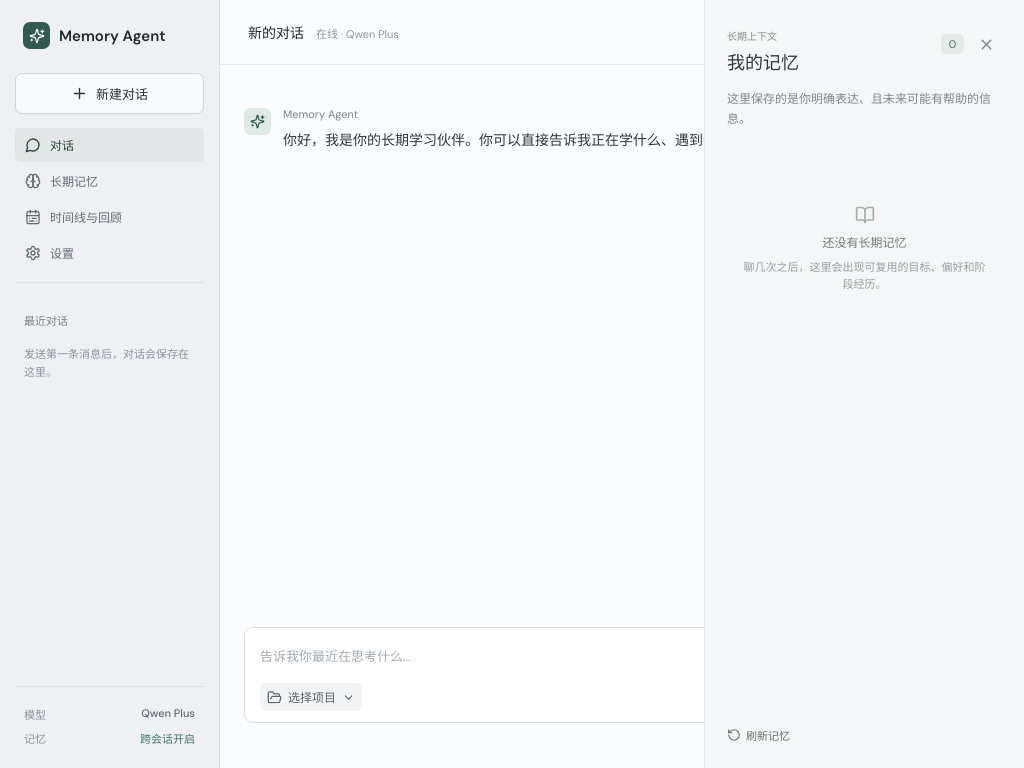
discards an old timeline response after leaving a scope and returning to it
Click the button "时间线与回顾" at (110, 217), box left=15, top=200, right=204, bottom=234
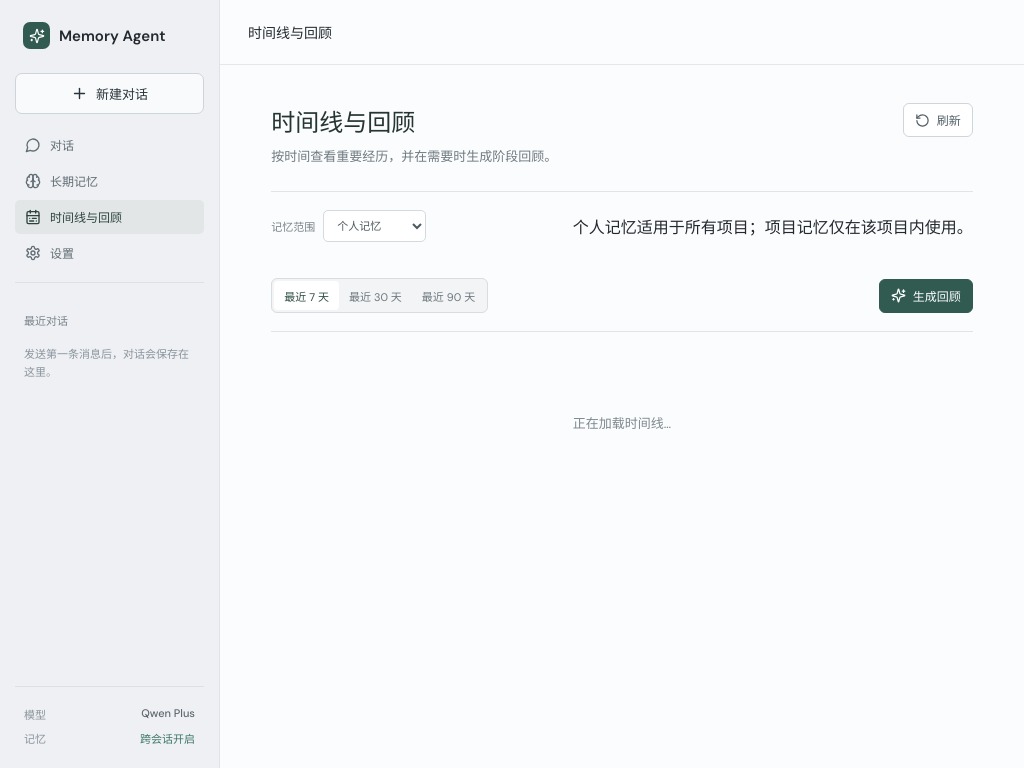
Select "demo" in the dropdown labelled "记忆范围" at (375, 226), box left=323, top=210, right=426, bottom=242
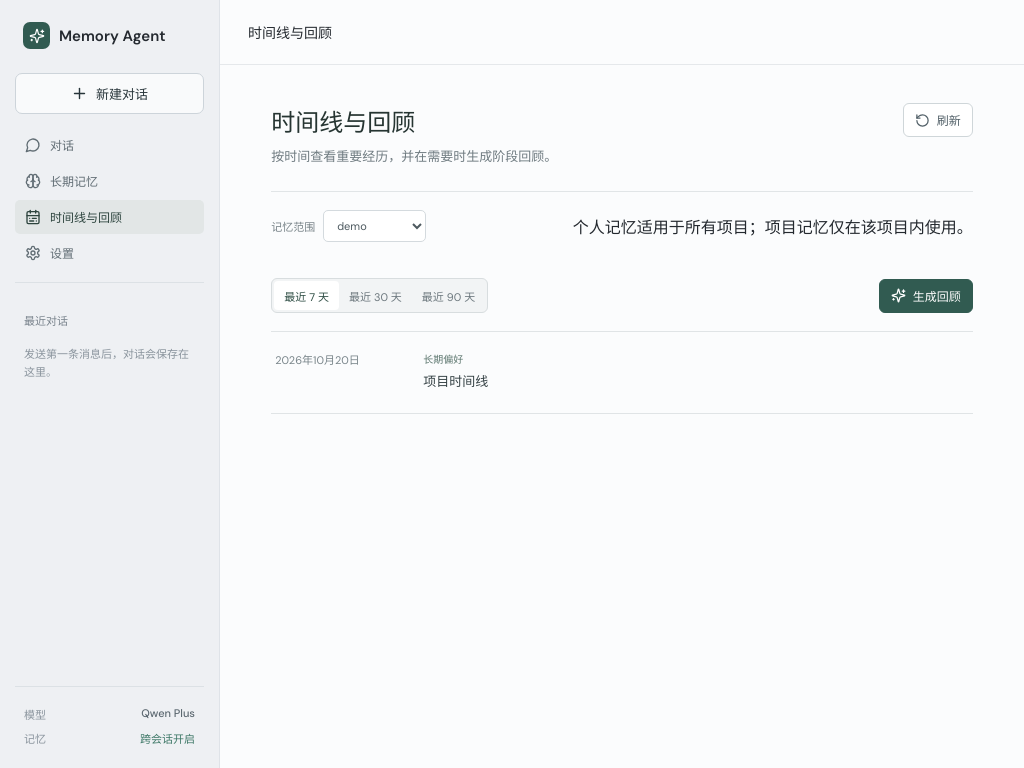
Select "个人记忆" in the dropdown labelled "记忆范围" at (375, 226), box left=323, top=210, right=426, bottom=242
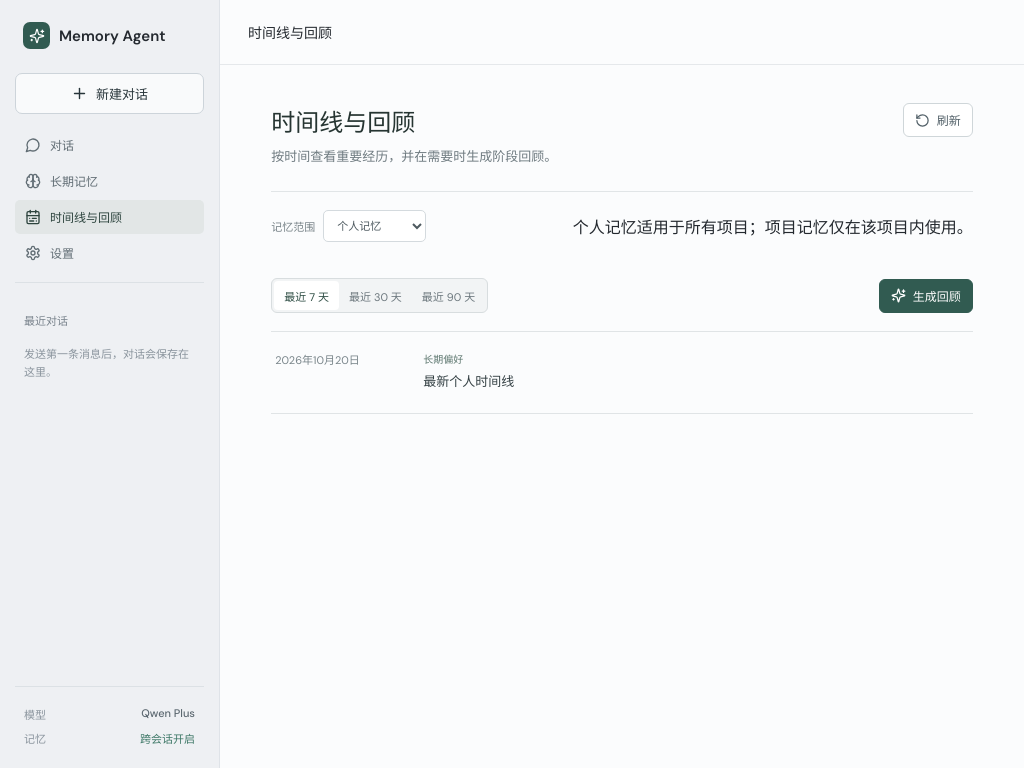
Expected: the text "最新个人时间线" is shown, left=423, top=373, right=514, bottom=390
